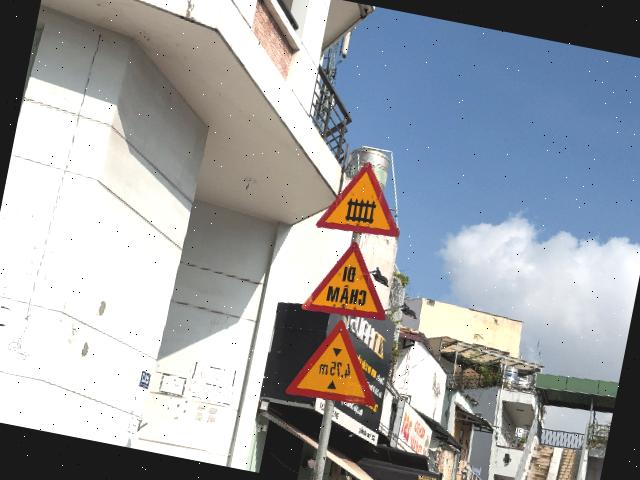chieu-cao-tinh-khong-thuc-te: (284, 312, 390, 410)
di-cham: (301, 234, 399, 325)
noi-giao-nhau-voi-duong-sat-co-rao-chan: (315, 154, 411, 242)
